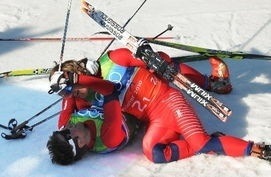falling: (44, 41, 271, 169)
